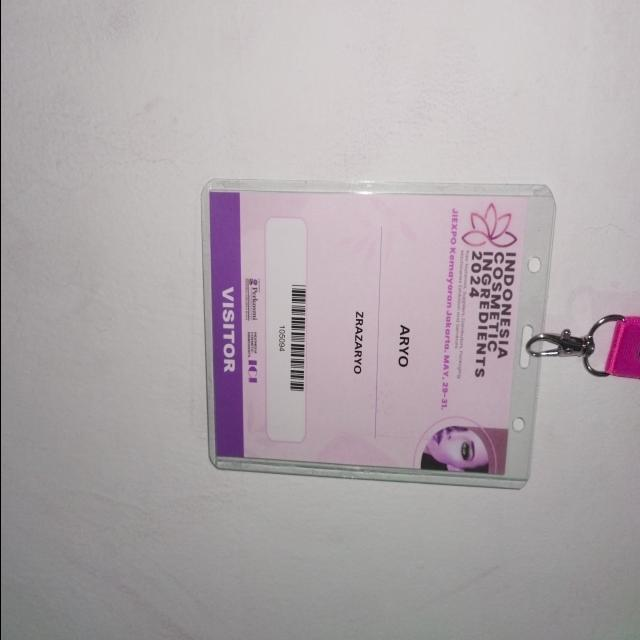ID_card: (200, 178, 556, 490)
